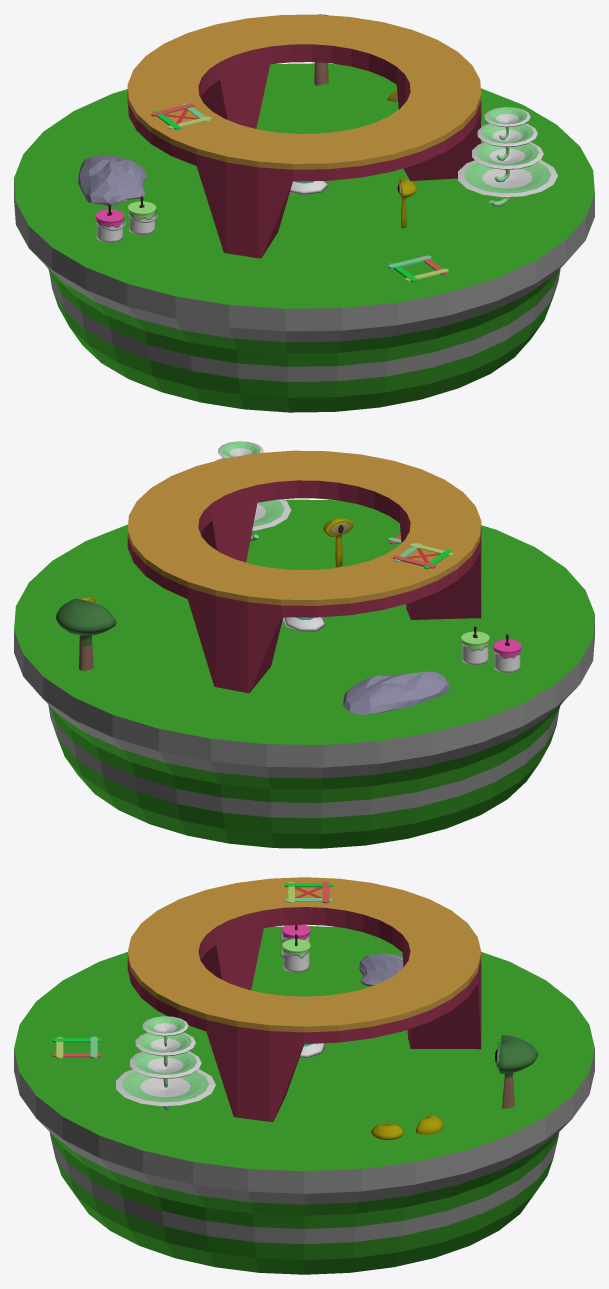
The model's file is stage_4_5.fbx.
3 views of the same model, one above another, from view 1: azimuth 30°, elevation 25°; view 2: azimuth 150°, elevation 25°; view 3: azimuth 270°, elevation 25° (orthographic).
Parts seen in each view (by area): view 1: 円柱.038, 円柱.008, GD_mesh.002, ICO球.012, 円柱.039, 円柱.040, 円柱.029, 円柱.013; view 2: 円柱.038, 円柱.008, ICO球.012, 円柱.014, GD_mesh.002, 円柱.039, 円柱.040, 円柱.029, 円柱.045, GD_mesh.006; view 3: 円柱.038, 円柱.008, GD_mesh.002, 円柱.014, ICO球.012, 円柱.040, 円柱.029, 円柱.013.
Boxes of the visible parts, x1=… form: 円柱.038: x1=14, y1=63, x2=594, y2=412; 円柱.008: x1=127, y1=14, x2=481, y2=258; GD_mesh.002: x1=458, y1=107, x2=557, y2=206; ICO球.012: x1=78, y1=155, x2=146, y2=206; 円柱.039: x1=95, y1=204, x2=125, y2=242; 円柱.040: x1=127, y1=196, x2=157, y2=234; 円柱.029: x1=151, y1=103, x2=211, y2=129; 円柱.013: x1=388, y1=255, x2=448, y2=282; 円柱.038: x1=14, y1=499, x2=594, y2=848; 円柱.008: x1=127, y1=450, x2=481, y2=693; ICO球.012: x1=343, y1=671, x2=450, y2=714; 円柱.014: x1=56, y1=598, x2=116, y2=670; GD_mesh.002: x1=215, y1=441, x2=291, y2=541; 円柱.039: x1=493, y1=634, x2=522, y2=672; 円柱.040: x1=461, y1=626, x2=490, y2=664; 円柱.029: x1=393, y1=543, x2=453, y2=569; 円柱.045: x1=323, y1=518, x2=353, y2=567; GD_mesh.006: x1=283, y1=617, x2=325, y2=631; 円柱.038: x1=14, y1=926, x2=594, y2=1274; 円柱.008: x1=127, y1=877, x2=481, y2=1121; GD_mesh.002: x1=116, y1=1016, x2=215, y2=1110; 円柱.014: x1=495, y1=1035, x2=538, y2=1108; ICO球.012: x1=359, y1=953, x2=403, y2=986; 円柱.040: x1=280, y1=934, x2=310, y2=972; 円柱.029: x1=284, y1=881, x2=332, y2=903; 円柱.013: x1=52, y1=1036, x2=101, y2=1058.
Bounding box in the file's own units: 1184 × 507 × 1184.
